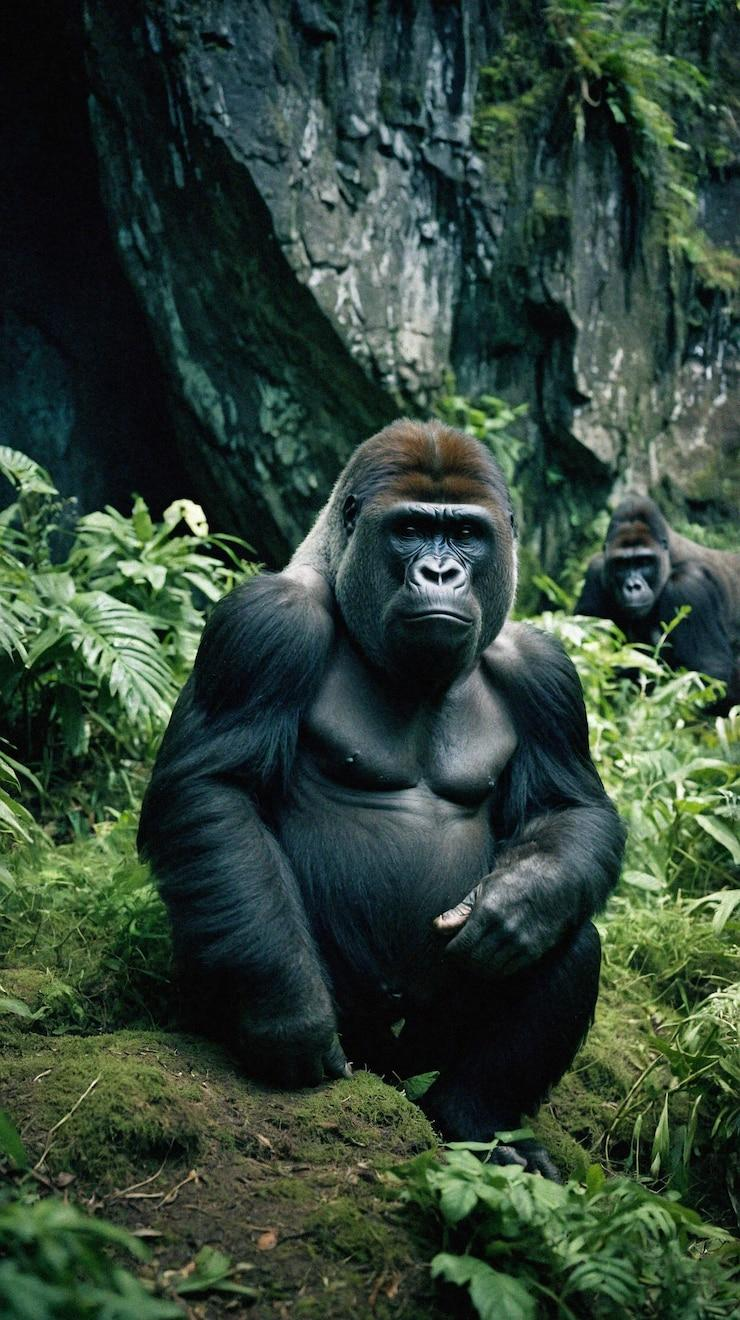gorille_Autres: (140, 327, 634, 1219), (563, 460, 740, 685)
